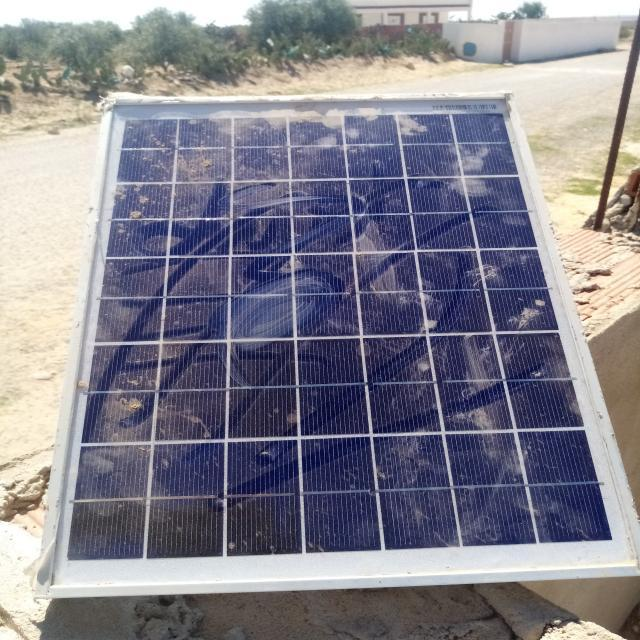faulty: (45, 95, 640, 591)
